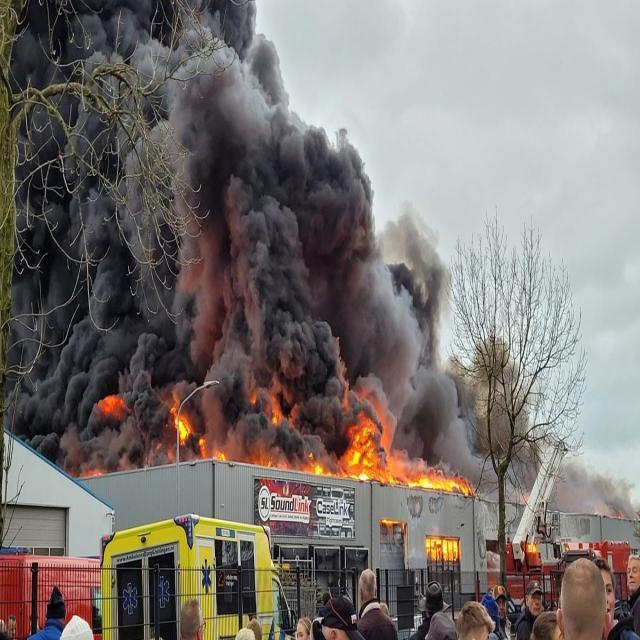Fire: (348, 428, 374, 482), (408, 476, 468, 498), (170, 406, 190, 446), (425, 538, 458, 562), (314, 464, 332, 477), (380, 472, 396, 486), (199, 438, 206, 458), (382, 520, 400, 525), (217, 452, 225, 462), (528, 544, 536, 553), (267, 458, 272, 467), (272, 416, 277, 424), (308, 452, 312, 459)
Smoke: (0, 0, 640, 521)
